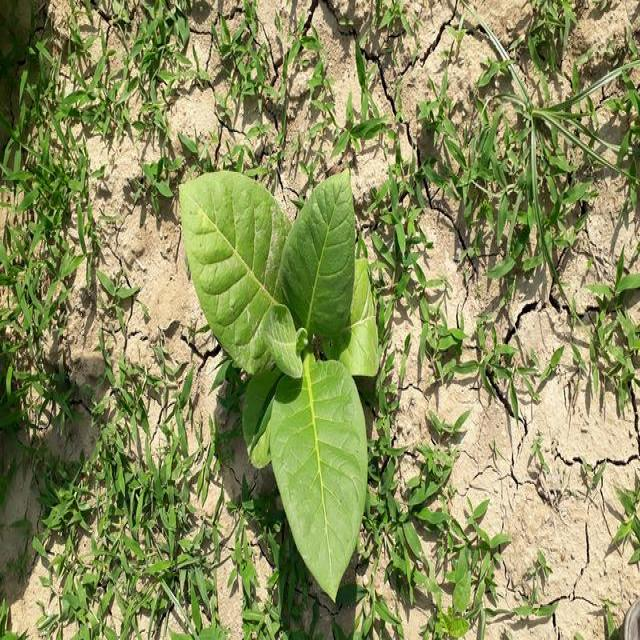crop: (173, 163, 406, 613)
